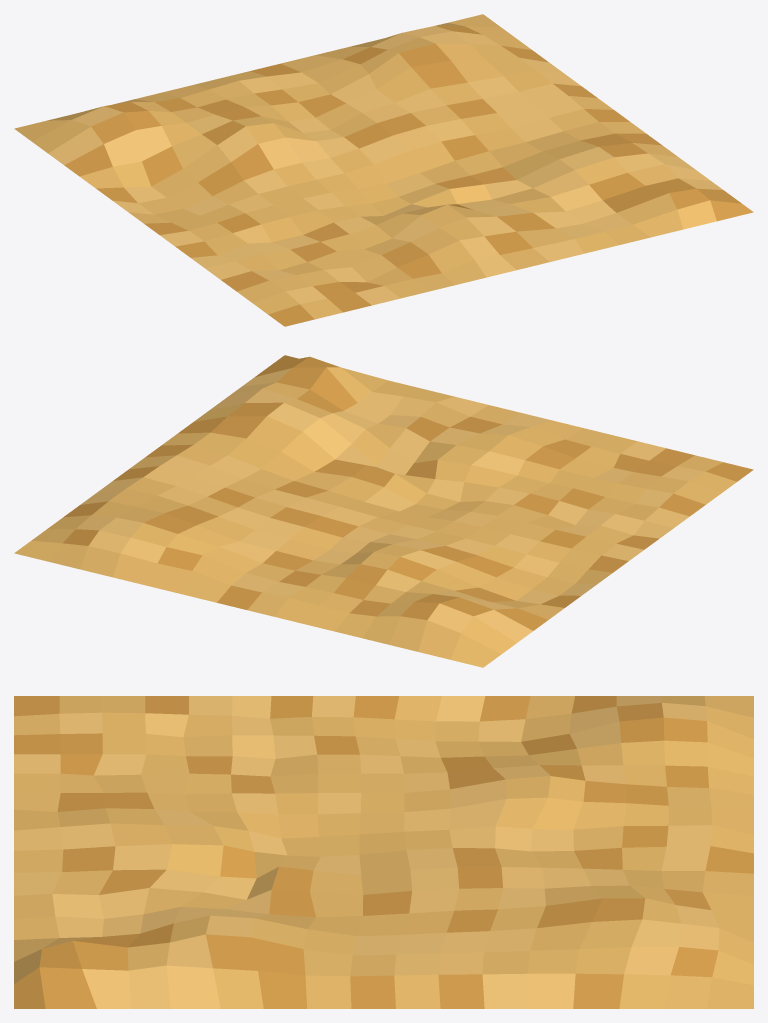
The model's file is Terrain.glb.
The picture shows the model from 3 angles, top to bottom: view 1: azimuth 30°, elevation 25°; view 2: azimuth 150°, elevation 25°; view 3: azimuth 270°, elevation 25°; orthographic projection. The views are drawn at different scales.
Parts seen in each view (by area): view 1: Terrain.001; view 2: Terrain.001; view 3: Terrain.001.
Boxes of the visible parts, box(x1,y1,x2,y2) form: Terrain.001: box(14, 14, 753, 326); Terrain.001: box(14, 355, 753, 667); Terrain.001: box(14, 696, 753, 1008).
Size of the model in its own units: 50.72 by 3.19 by 50.69.
Materials: 1 (1 with a texture image).
